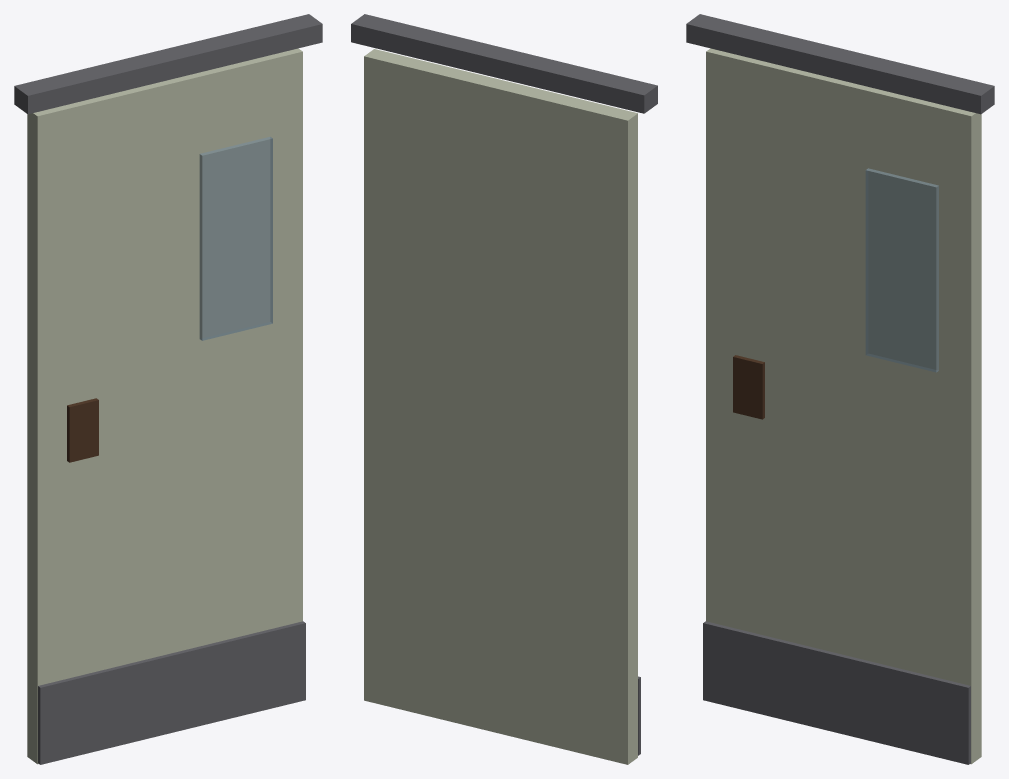
Rendered from SM_P2_Door_Classroom_A.obj.
3 views of the same model, side by side, from view 1: azimuth 30°, elevation 25°; view 2: azimuth 150°, elevation 25°; view 3: azimuth 330°, elevation 25° (orthographic).
Visible parts, largest first — view 1: leaf, kickplate, vision_panel, slide_rail, pull_recess; view 2: leaf, slide_rail; view 3: leaf, kickplate, vision_panel, slide_rail, pull_recess.
Boxes of the visible parts, <box> form: leaf: <box>27,48,302,764</box>; kickplate: <box>38,621,305,764</box>; vision_panel: <box>199,136,272,340</box>; slide_rail: <box>14,14,322,114</box>; pull_recess: <box>67,398,98,462</box>; leaf: <box>364,49,637,764</box>; slide_rail: <box>351,14,657,113</box>; leaf: <box>706,48,981,764</box>; kickplate: <box>703,621,970,764</box>; vision_panel: <box>865,168,938,372</box>; slide_rail: <box>686,14,994,114</box>; pull_recess: <box>733,355,764,419</box>.
Bounding box in the file's own units: 1 × 2.19 × 0.09.
